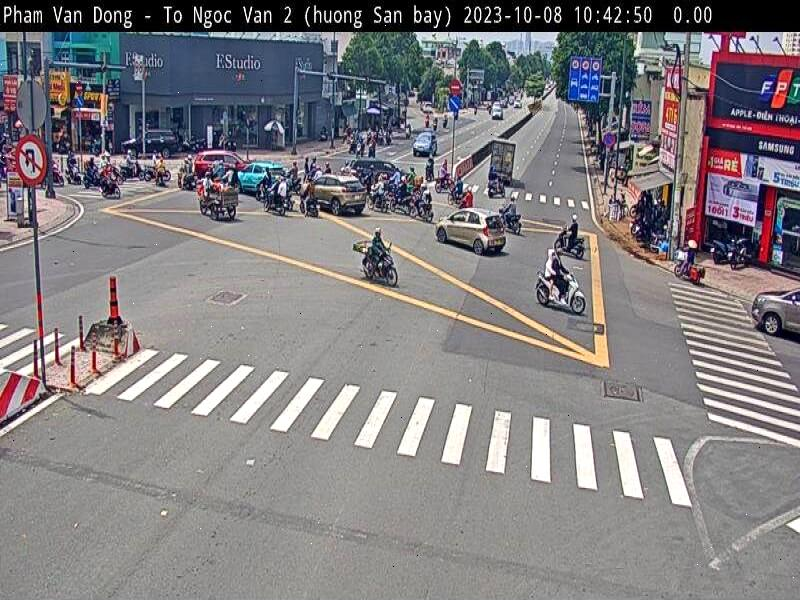car: (434, 207, 509, 256), (751, 287, 800, 341), (310, 173, 370, 211), (237, 162, 282, 191), (415, 133, 436, 158)
motorcycle: (536, 265, 586, 316), (360, 240, 400, 288), (554, 229, 586, 260), (494, 208, 522, 234)
truck: (488, 137, 516, 186)
